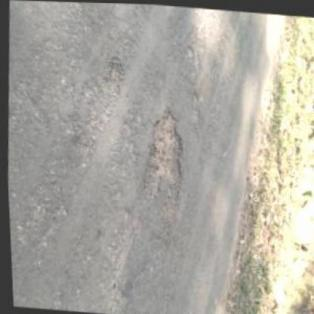Hueco: (135, 104, 187, 236), (98, 54, 127, 92)
